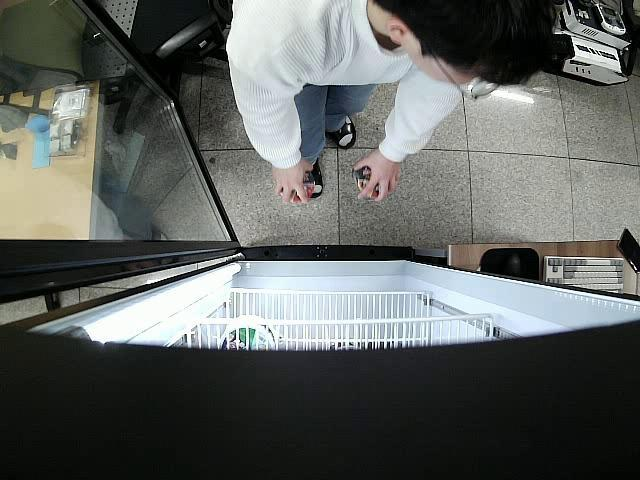08_buldak_S: (356, 165, 393, 197), (282, 172, 314, 202)
